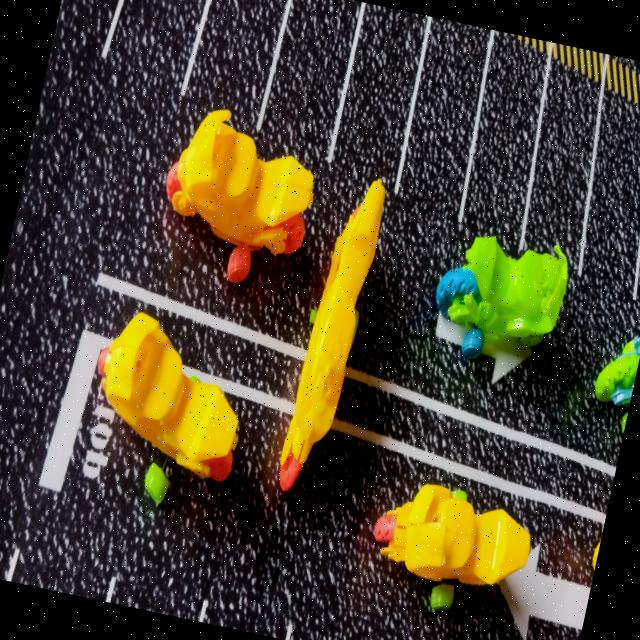bikes: (279, 179, 385, 490), (97, 312, 238, 503), (166, 110, 313, 282), (374, 484, 530, 609), (436, 236, 567, 359)
slots: (399, 19, 489, 235), (462, 33, 545, 255), (331, 3, 425, 197), (258, 0, 359, 176), (525, 64, 599, 272), (181, 0, 286, 132), (581, 94, 640, 298)
